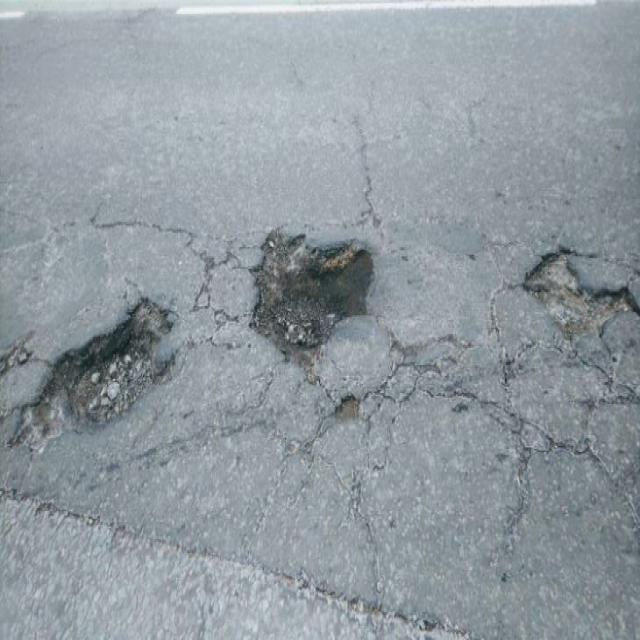pothole: (13, 291, 185, 452), (244, 211, 374, 368), (518, 240, 638, 344)
